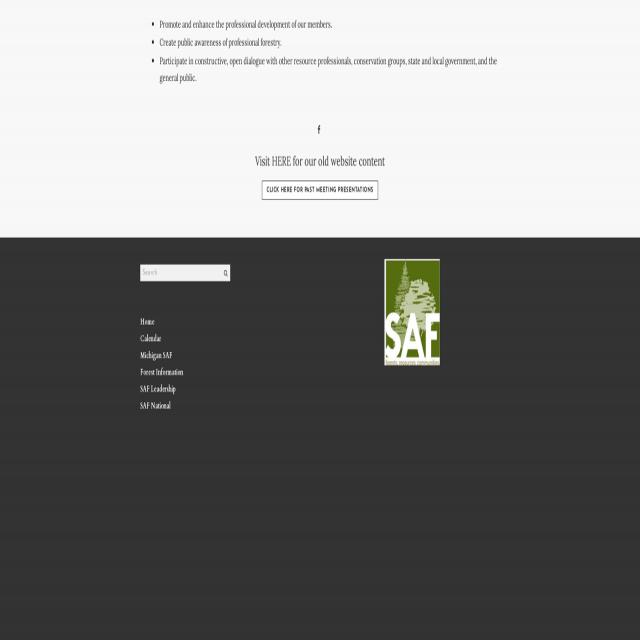button: (384, 260, 440, 366), (262, 180, 378, 200), (317, 121, 322, 138)
field: (140, 264, 230, 281)
